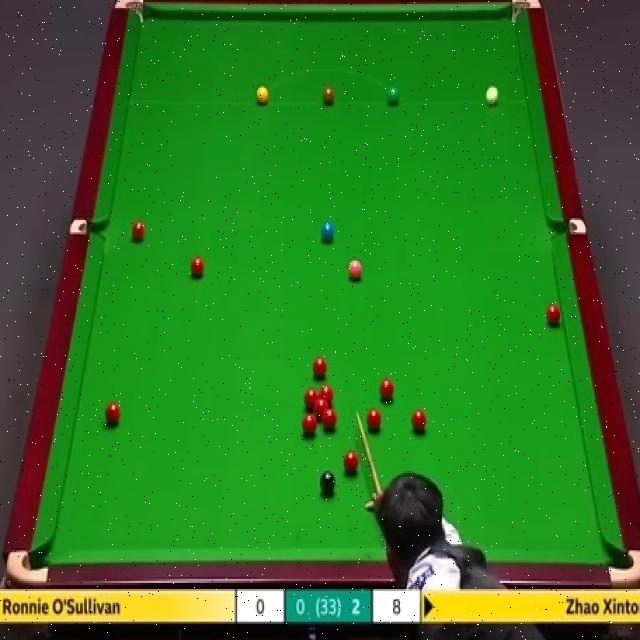black-ball: (320, 468, 336, 496)
blue-ball: (320, 220, 334, 246)
brown-ball: (322, 85, 335, 105)
green-ball: (387, 86, 400, 105)
pink-ball: (347, 258, 363, 282)
red-ball: (409, 408, 429, 436), (378, 375, 394, 405), (366, 407, 382, 437), (344, 447, 359, 477), (545, 302, 561, 329), (130, 219, 146, 245), (105, 401, 120, 428), (318, 384, 334, 408), (312, 357, 328, 381), (302, 414, 317, 438), (305, 387, 319, 412), (191, 255, 205, 280), (322, 408, 337, 431), (316, 399, 330, 420)
white-ball: (484, 84, 501, 106)
yellow-ball: (255, 85, 269, 105)
